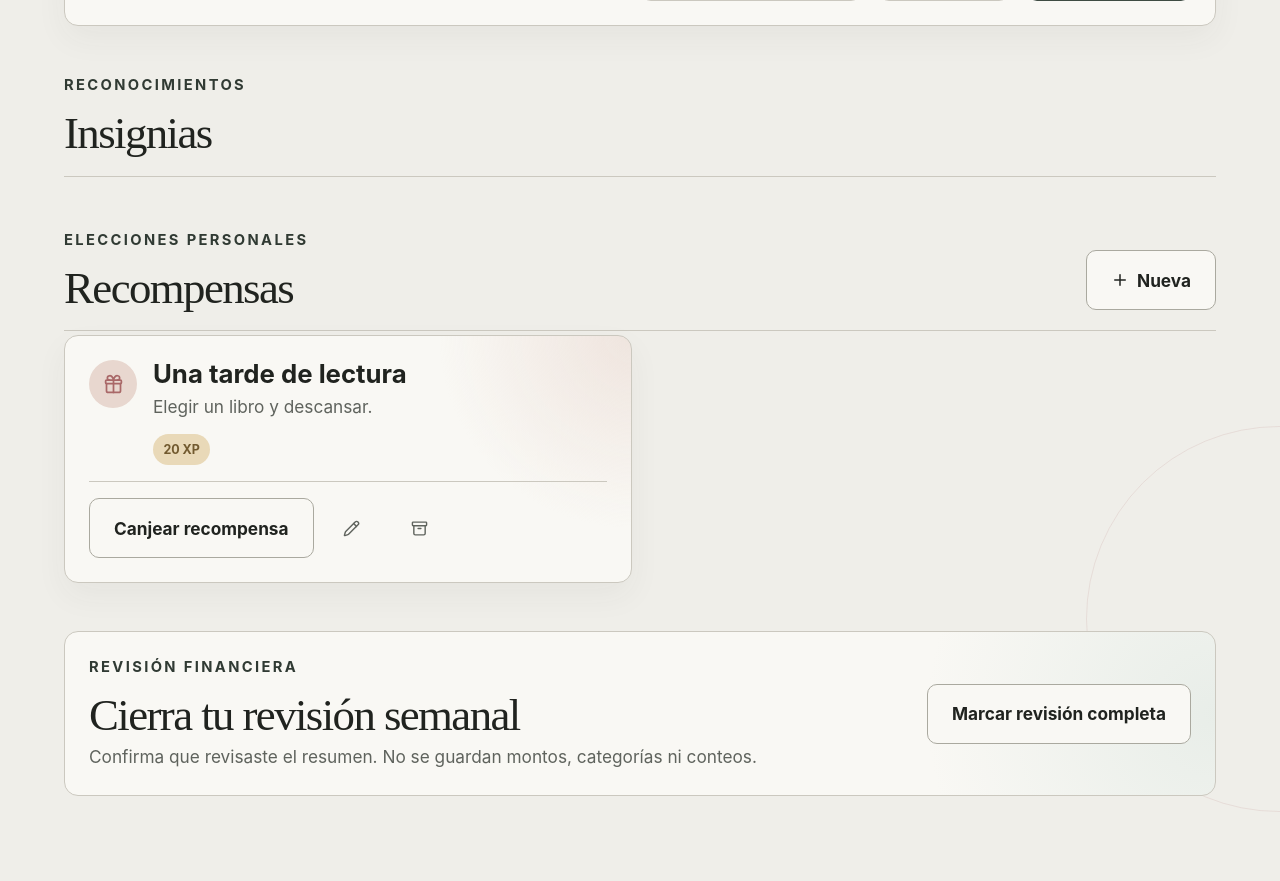
Test: ProgressPage › shows a reward celebration after a successful redemption
This screenshot has width=1280, height=881.
(page scrolled)
Click the button "Canjear recompensa" at (201, 528), box [89,498,314,558]
(page scrolled)
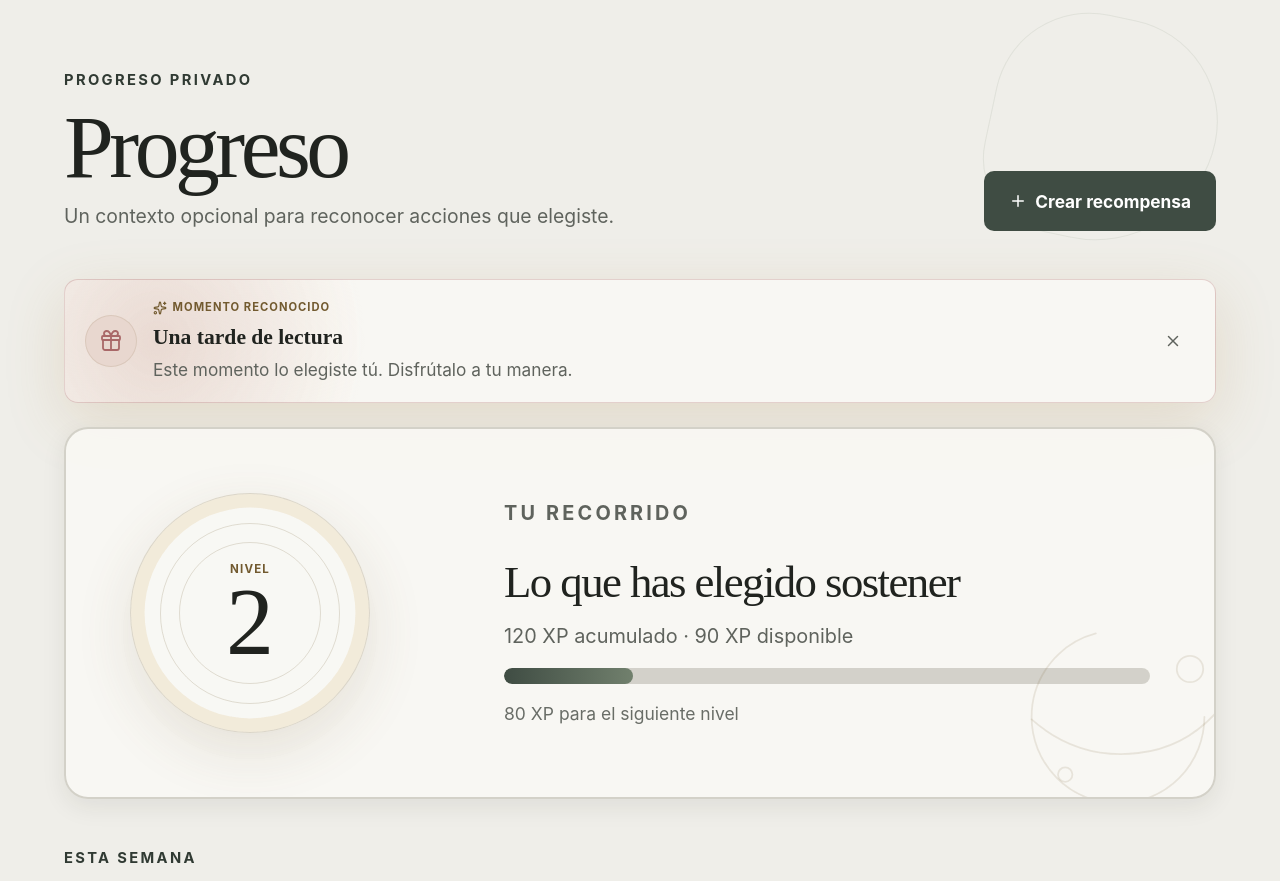
Expected: the text "Este momento lo elegiste tú. Disfrútalo a tu manera." is shown, [153,359,573,380]
